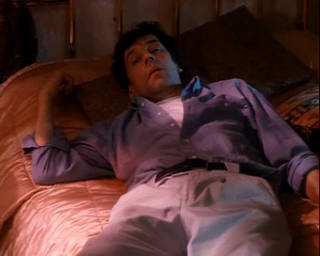face: (125, 38, 174, 90)
ms: (1, 1, 320, 256)
person: (22, 20, 320, 256)
